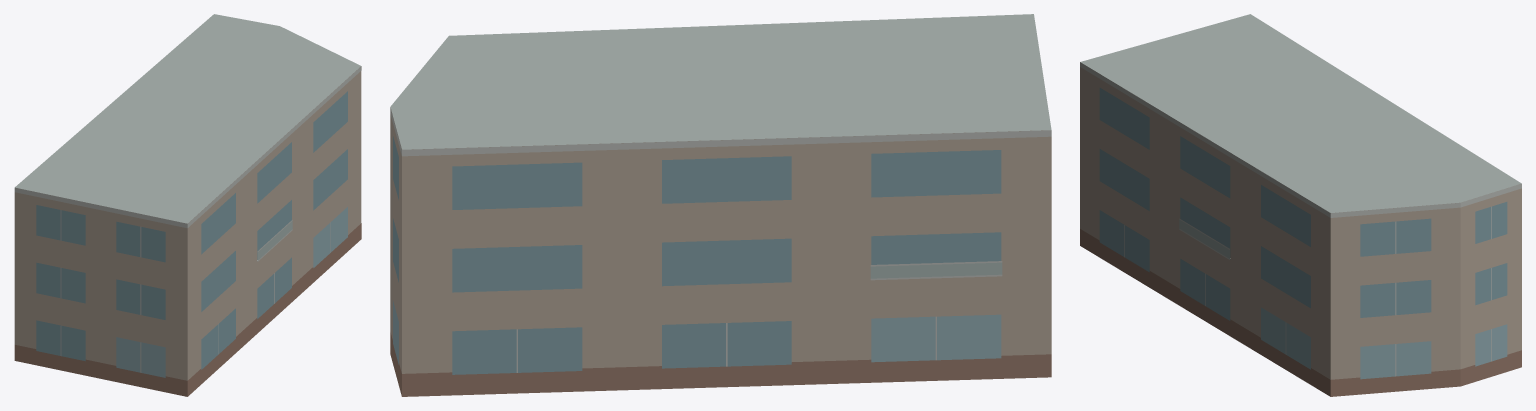
The model's file is survey-upis-32655388.glb.
The picture shows the model from 3 angles, left to right: view 1: azimuth 30°, elevation 25°; view 2: azimuth 150°, elevation 25°; view 3: azimuth 270°, elevation 25°; orthographic projection. The views are drawn at different scales.
Parts seen in each view (by area): view 1: survey-upis-32655388.tmp; view 2: survey-upis-32655388.tmp; view 3: survey-upis-32655388.tmp.
Part boxes in pixels (<box>): survey-upis-32655388.tmp: <box>14,14,361,396</box>; survey-upis-32655388.tmp: <box>390,14,1051,396</box>; survey-upis-32655388.tmp: <box>1080,14,1521,396</box>.
Size of the model in its own units: 21.27 by 9.15 by 19.94.
